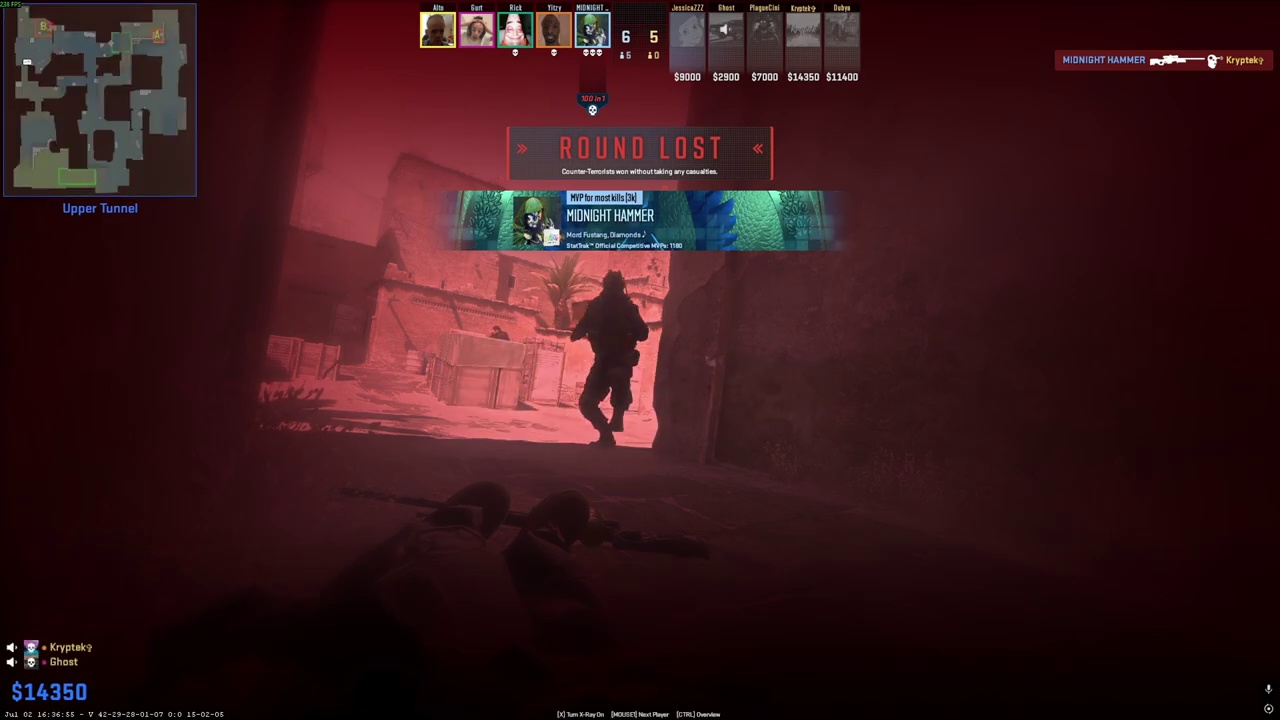CT: (573, 271, 643, 448)
